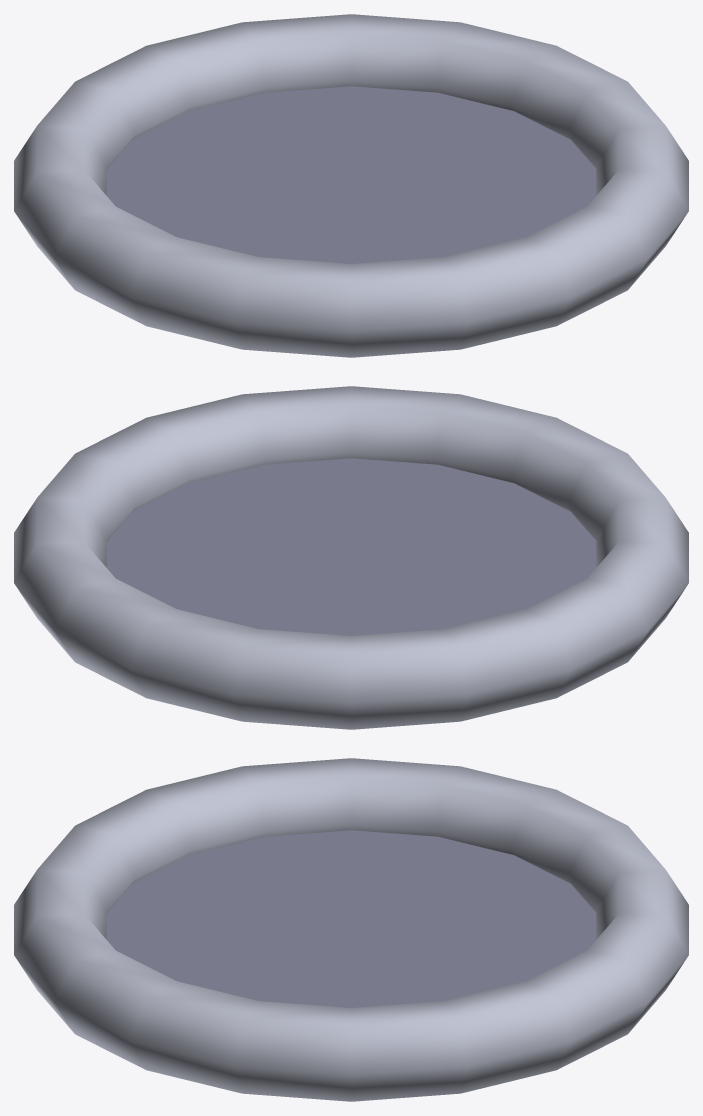
File: space__crater.fbx
3 views of the same model, one above another, from view 1: azimuth 30°, elevation 25°; view 2: azimuth 150°, elevation 25°; view 3: azimuth 270°, elevation 25° (orthographic).
Parts seen in each view (by area): view 1: space__crater; view 2: space__crater; view 3: space__crater.
Part boxes in pixels (left/top/right/bottom): space__crater: left=14, top=14, right=688, bottom=357; space__crater: left=14, top=386, right=688, bottom=729; space__crater: left=14, top=758, right=688, bottom=1101.
Size of the model in its own units: 5.1 by 0.6062 by 5.02.
